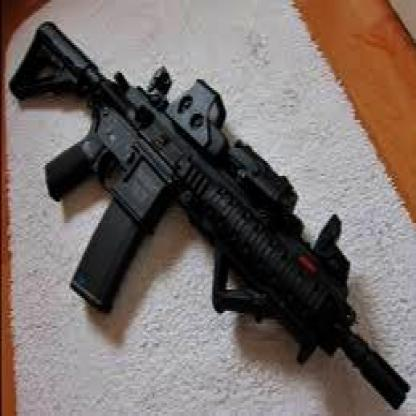rifle: (10, 17, 411, 410)
